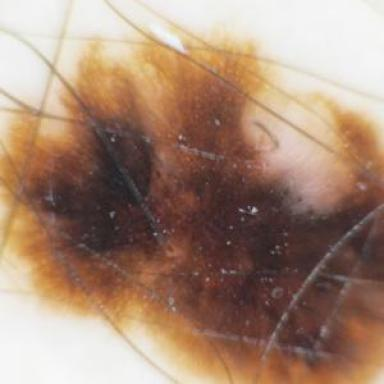Melanoma: (0, 39, 384, 384)
